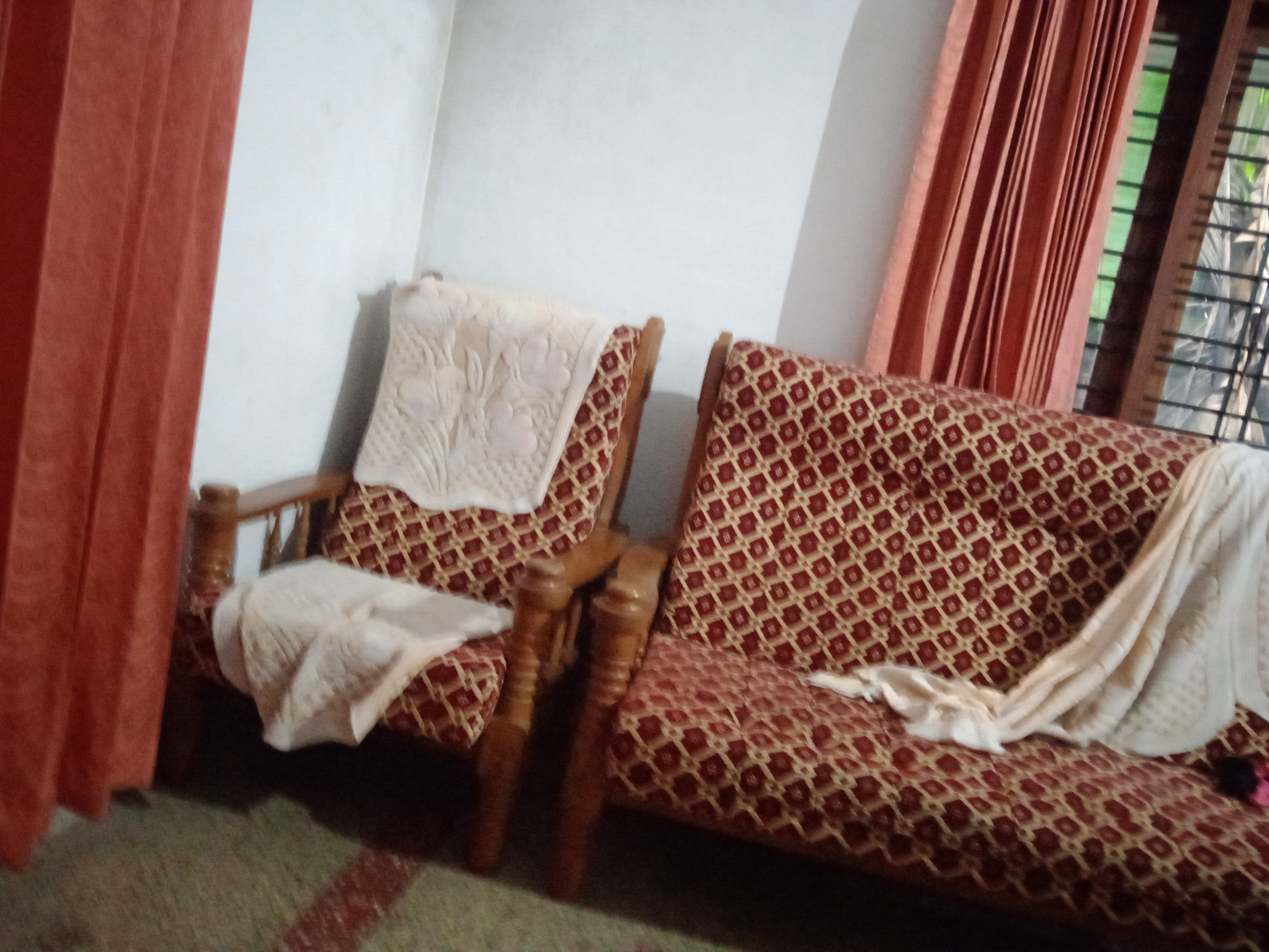sofa: (552, 332, 1269, 952), (182, 270, 664, 867)
